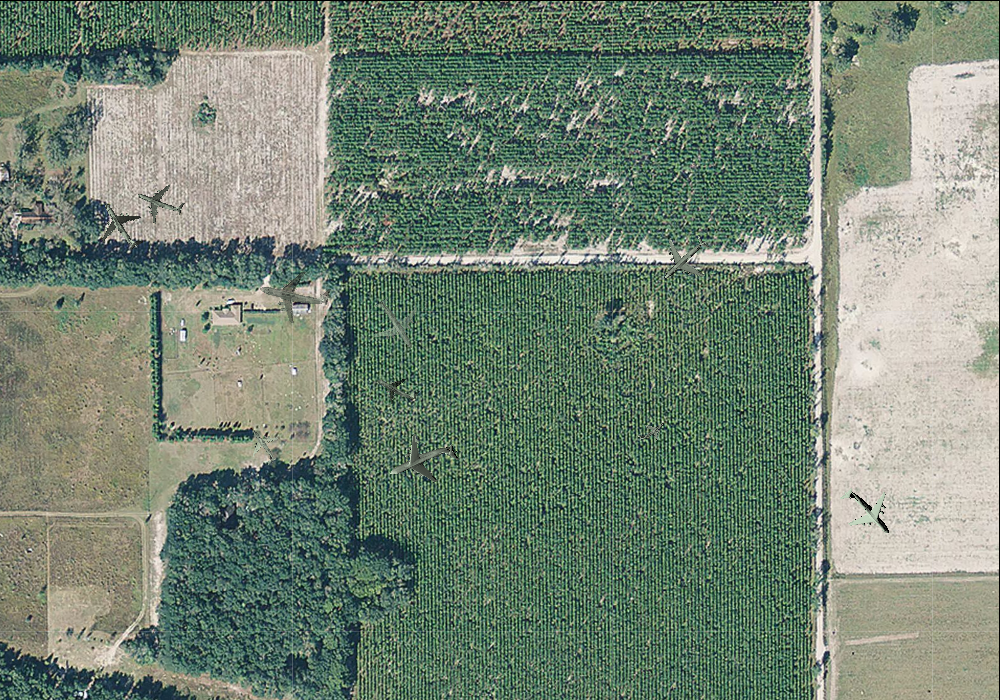plane: (378, 418, 468, 505), (826, 471, 908, 553), (253, 254, 337, 333), (357, 285, 433, 362), (647, 221, 723, 297), (85, 189, 156, 261), (129, 171, 190, 232), (369, 362, 425, 415), (237, 420, 288, 472), (632, 412, 670, 449)
